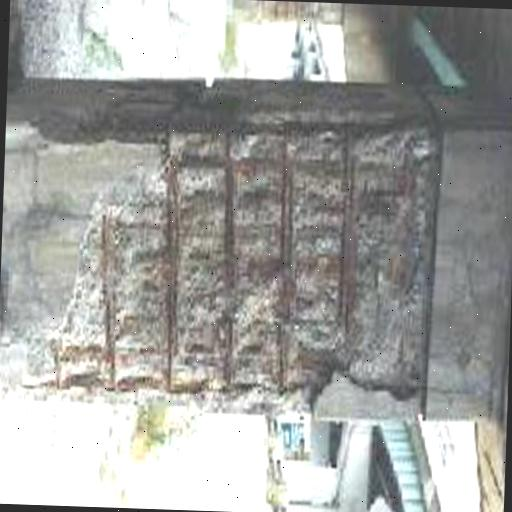spalling: (28, 76, 432, 420)
